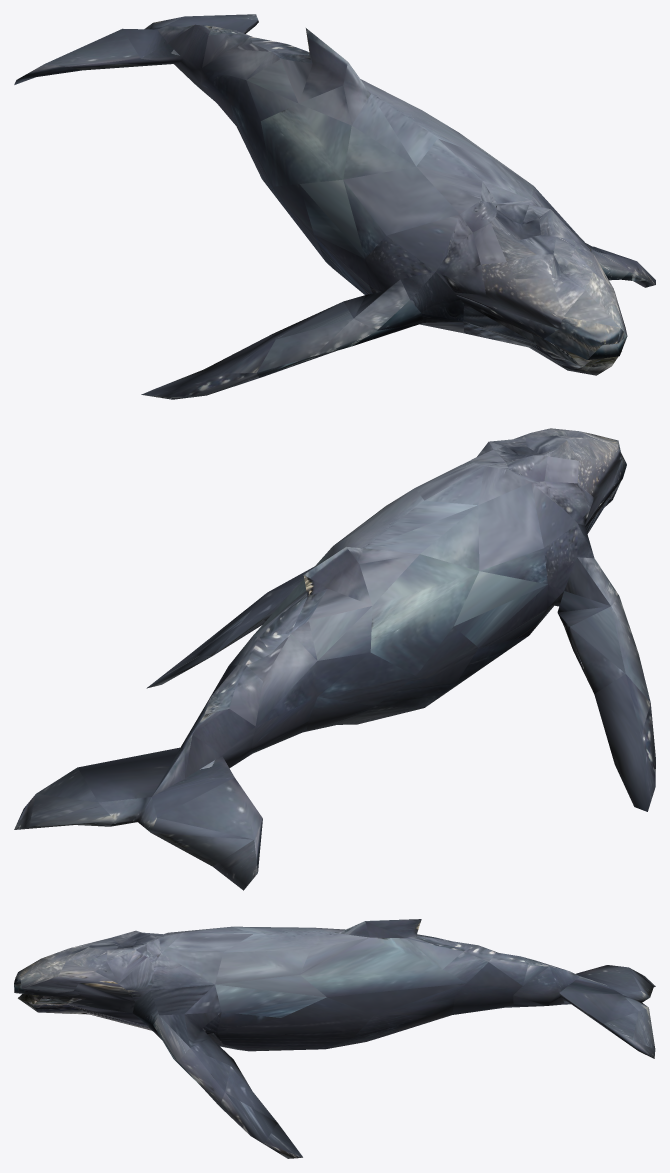
The model's file is ballena.fbx.
The picture shows the model from 3 angles, top to bottom: view 1: azimuth 30°, elevation 25°; view 2: azimuth 150°, elevation 25°; view 3: azimuth 270°, elevation 25°; orthographic projection. The views are drawn at different scales.
Parts seen in each view (by area): view 1: Mesh_0; view 2: Mesh_0; view 3: Mesh_0.
Part boxes in pixels (<box>): Mesh_0: <box>14,14,655,399</box>; Mesh_0: <box>14,428,655,890</box>; Mesh_0: <box>14,919,655,1158</box>.
Bounding box in the file's own units: 119 × 55.05 × 199.
Materials: 1 (1 with a texture image).
